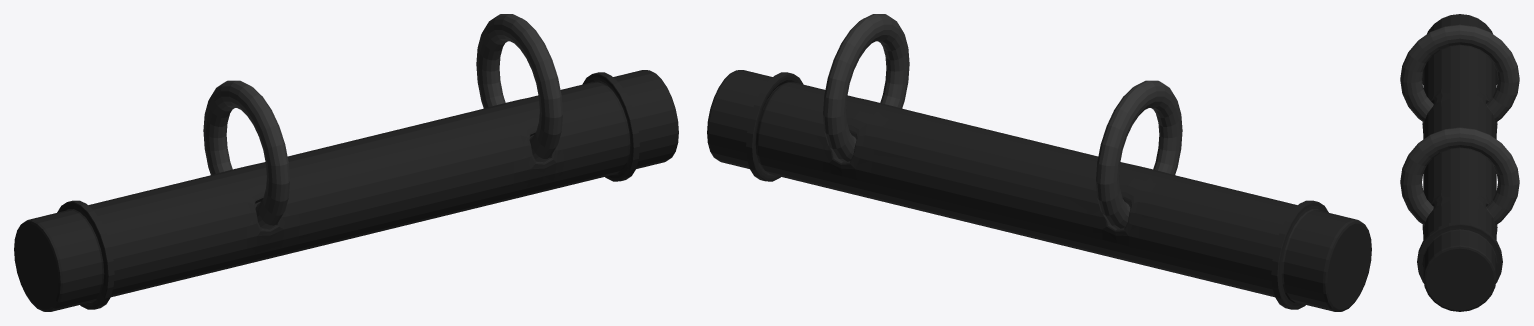
File: belier.obj
3 views of the same model, side by side, from view 1: azimuth 30°, elevation 25°; view 2: azimuth 150°, elevation 25°; view 3: azimuth 270°, elevation 25° (orthographic). The views are drawn at different scales.
Visible parts, largest first — view 1: belier_19244_Battering_ram_v1; view 2: belier_19244_Battering_ram_v1; view 3: belier_19244_Battering_ram_v1.
Boxes of the visible parts, <box> form: belier_19244_Battering_ram_v1: <box>14,14,678,311</box>; belier_19244_Battering_ram_v1: <box>707,14,1371,311</box>; belier_19244_Battering_ram_v1: <box>1400,14,1519,311</box>.
Size of the model in its own units: 3.13 by 0.8702 by 0.6789.
1 material, 1 textured.
